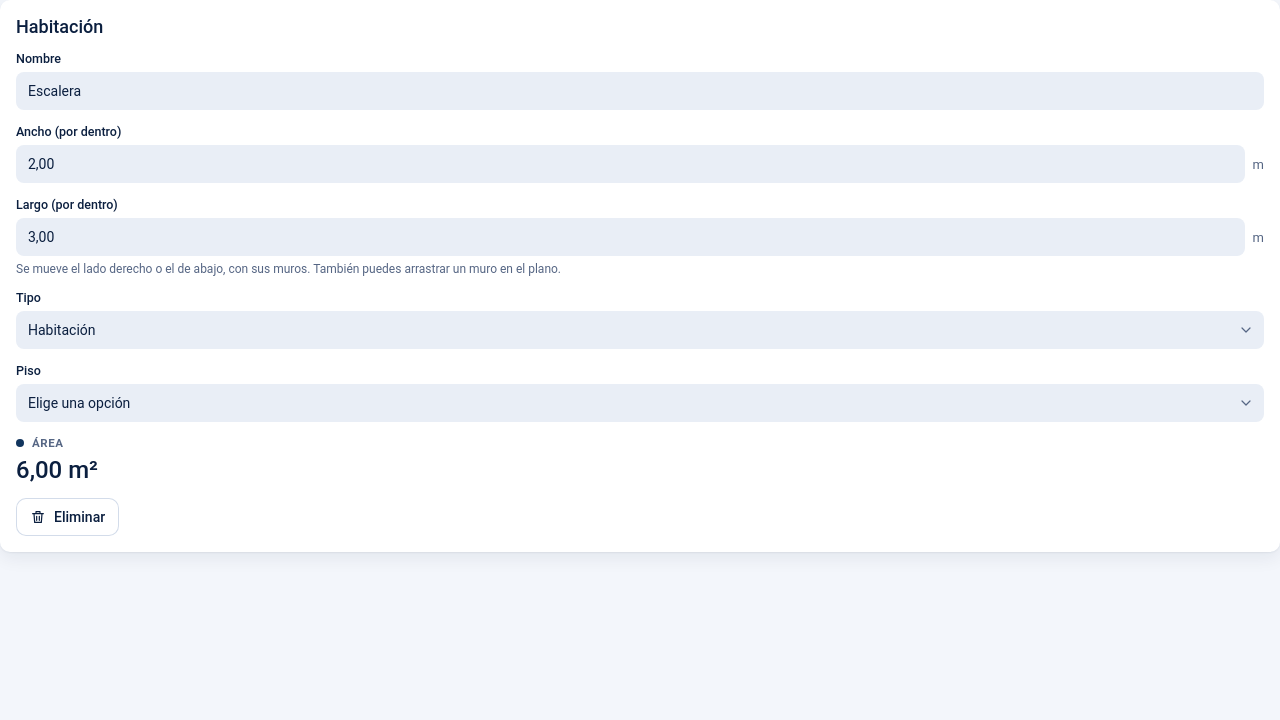
Test case: a room can become a U-shaped stairs going up to the right
The width and height of the screenshot is (1280, 720).
Later steps or results of the test are not shown.
Expected: the dropdown labelled "Sube hacia" is not shown
Click the dropdown named "Tipo" at (62,330), box 16,311 -> 1264,349
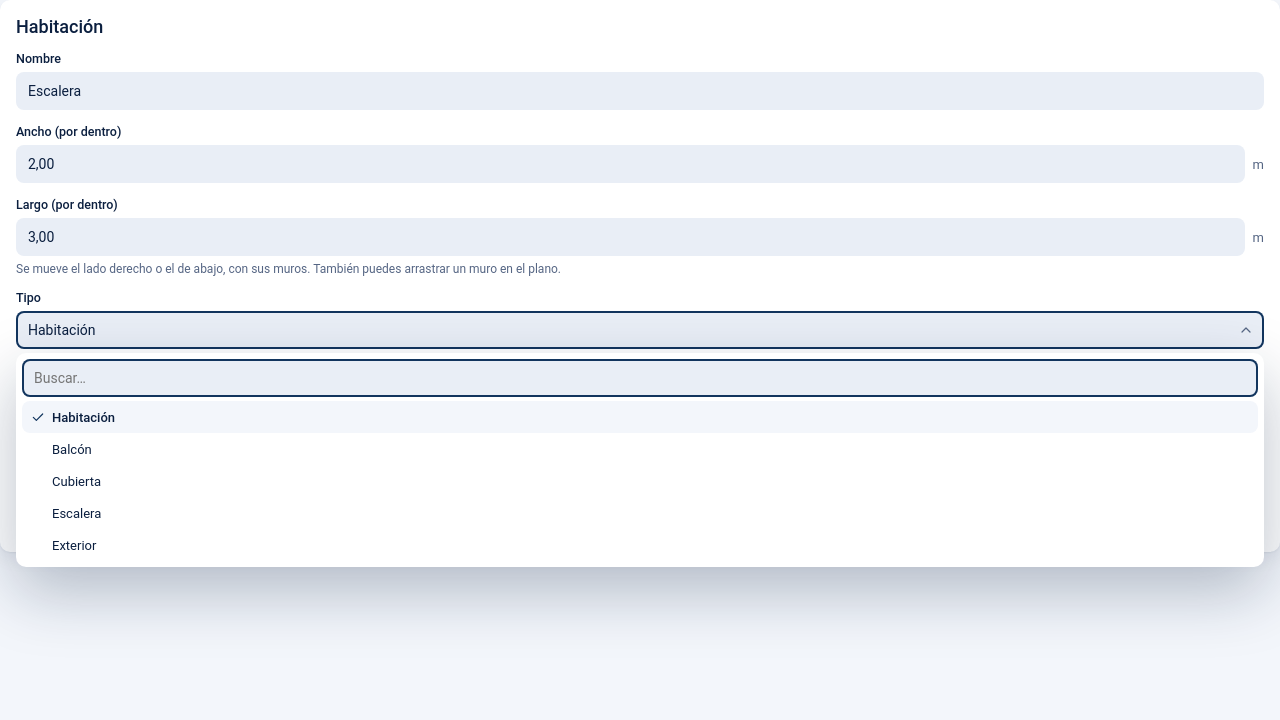
Click the option "Escalera" at (77,513), box 52,506 -> 101,520
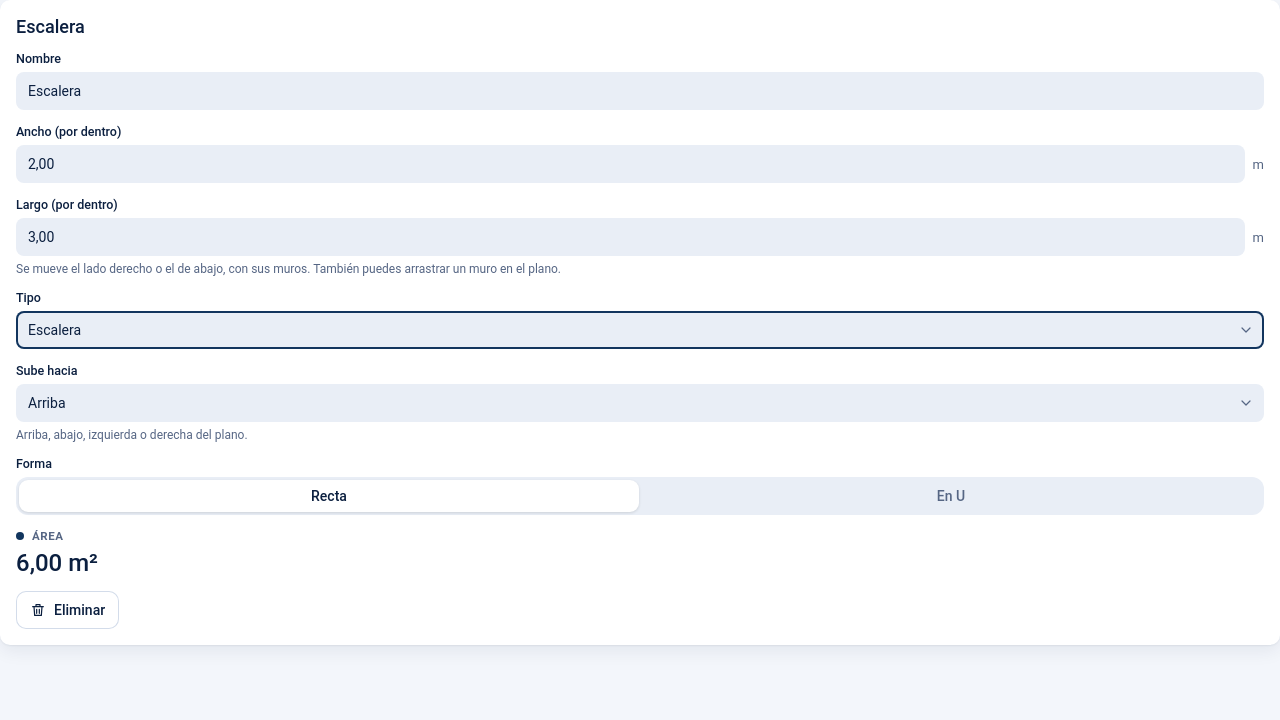
Result: the heading "Escalera" is shown at 16,16 -> 85,37
Result: the dropdown named "Sube hacia" reads "Arriba" at 16,384 -> 1264,422
